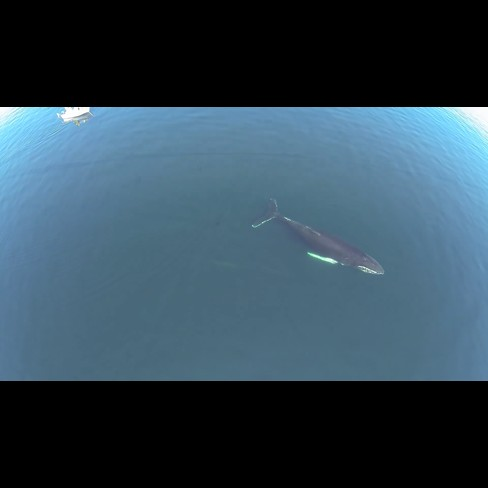boat: (55, 108, 93, 126)
hump: (246, 194, 391, 286)
